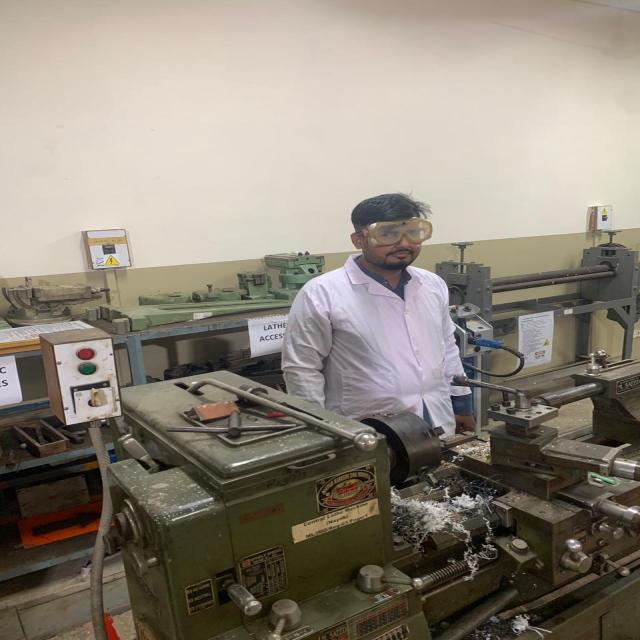googles: (366, 216, 434, 247)
labcoat: (279, 250, 468, 444)
